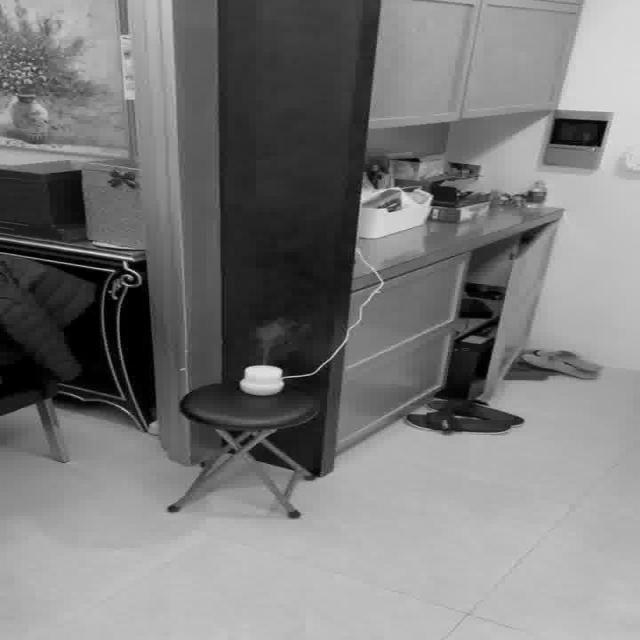fire: (250, 315, 308, 360)
